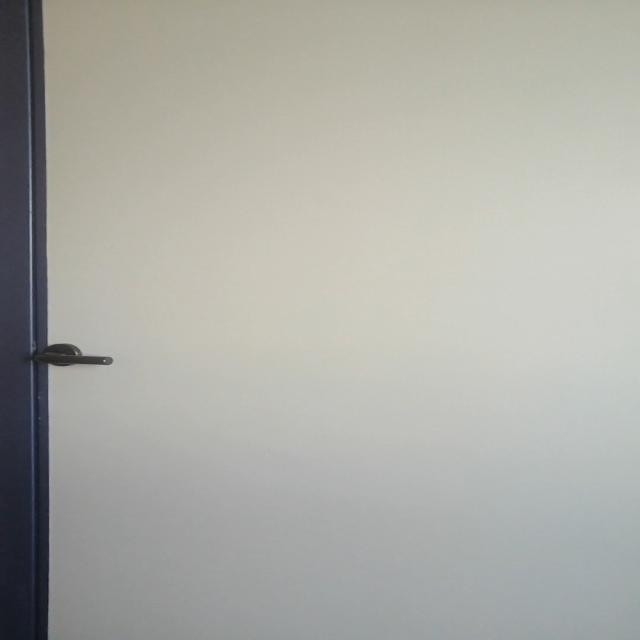door_handle: (35, 350, 115, 367)
